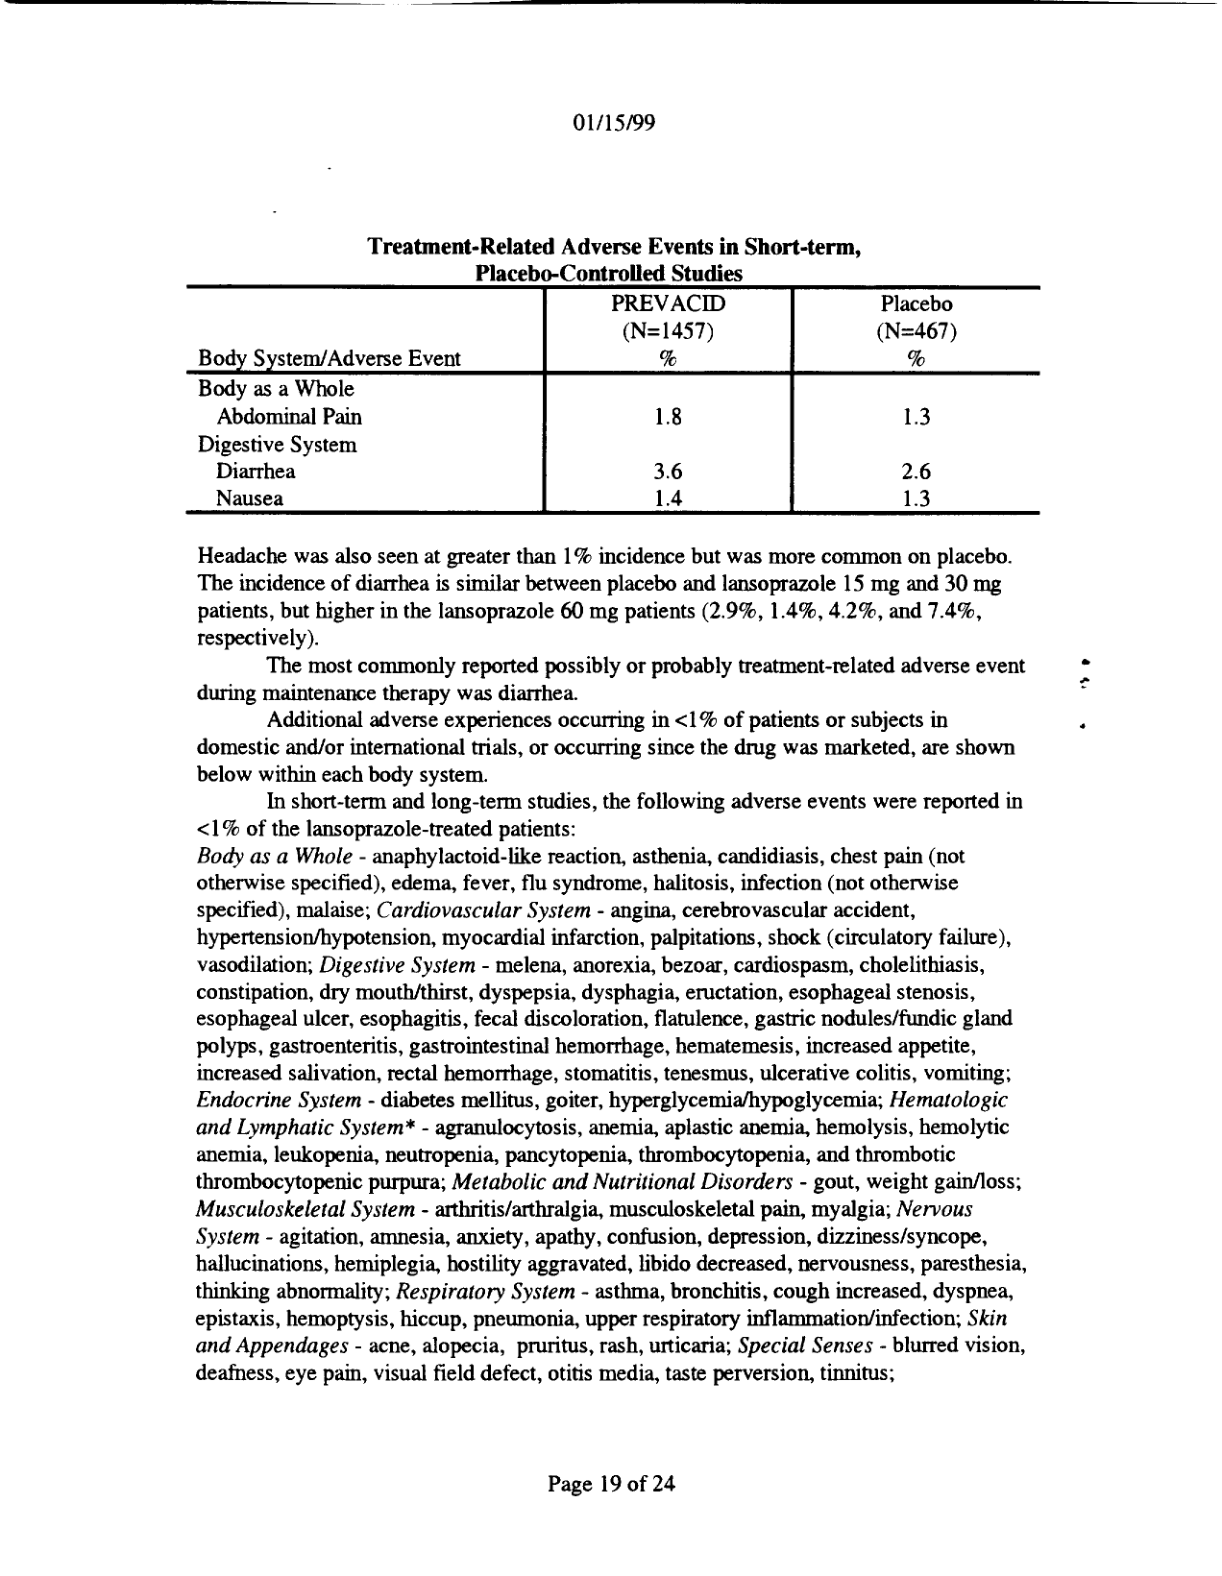partial_lined: (183, 283, 1045, 517)
